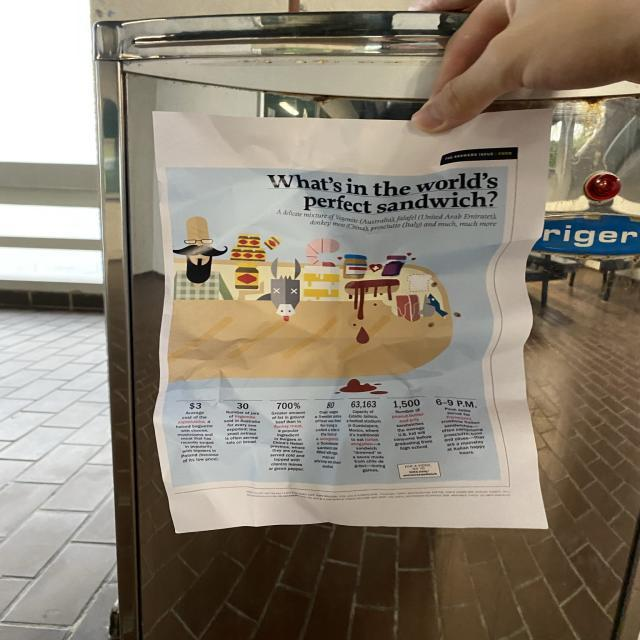document: (153, 110, 550, 532)
